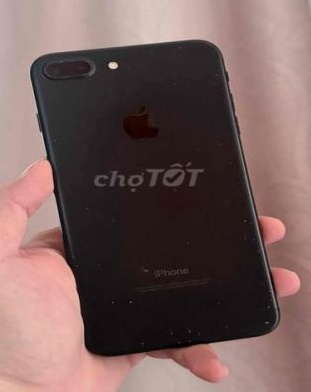scratch: (236, 211, 280, 330), (65, 250, 156, 280), (135, 323, 231, 349), (71, 203, 120, 244), (38, 56, 105, 80), (216, 137, 240, 169), (102, 294, 134, 309), (116, 51, 138, 69), (41, 129, 59, 144), (177, 233, 195, 248), (210, 70, 222, 80), (208, 296, 220, 305), (174, 44, 184, 52), (95, 91, 105, 98)
